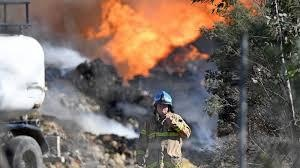fire: (86, 3, 226, 79)
